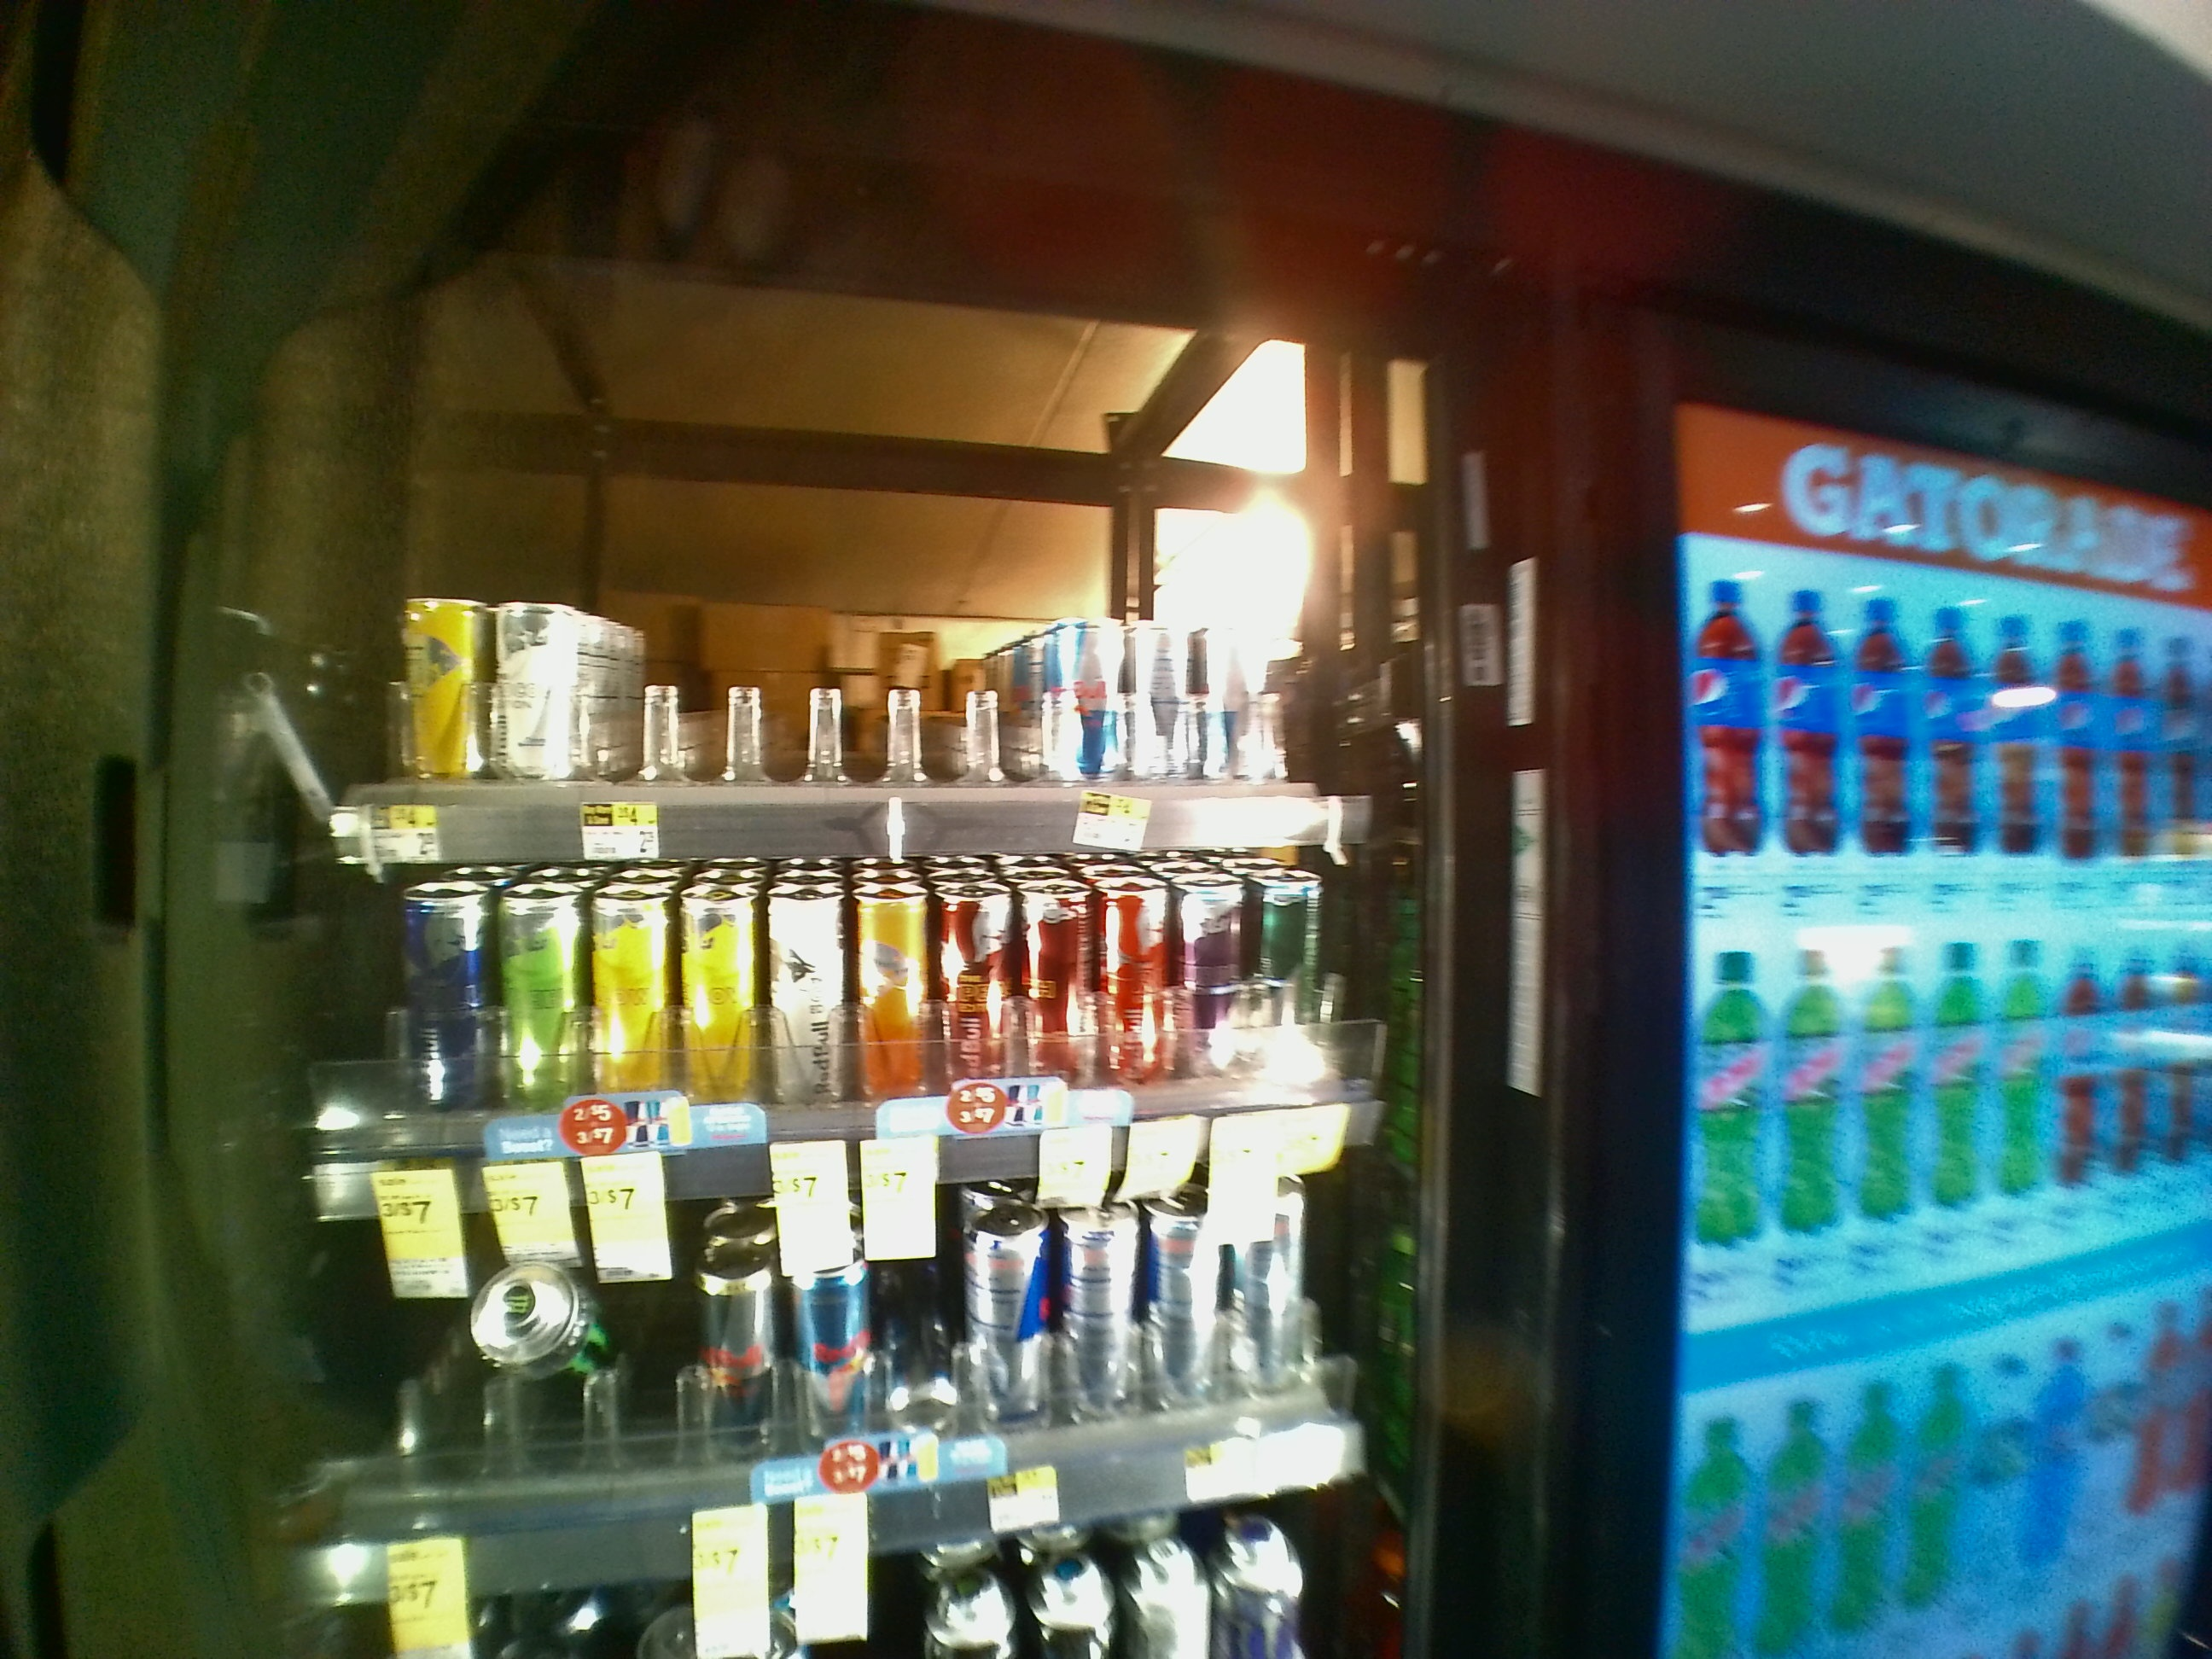shelf: (249, 230, 1467, 847), (237, 828, 1442, 1175)
